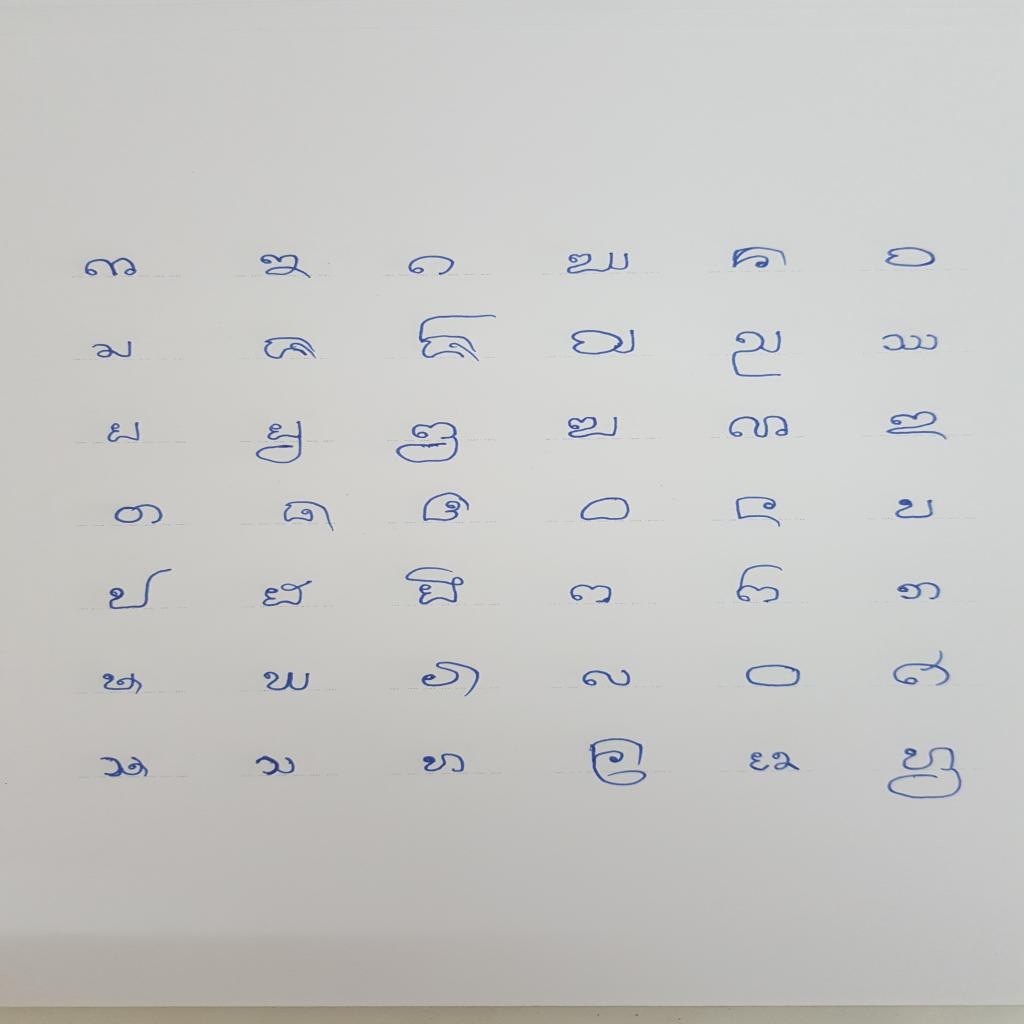LN001: (80, 254, 142, 280)
LN002: (254, 253, 318, 283)
LN003: (404, 253, 461, 281)
LN006: (881, 245, 942, 272)
LN007: (87, 339, 140, 362)
LN010: (565, 327, 641, 359)
LN011: (726, 328, 789, 381)
LN012: (875, 331, 944, 355)
LN013: (103, 419, 146, 446)
LN014: (254, 418, 309, 468)
LN016: (562, 413, 625, 442)
LN017: (724, 414, 795, 442)
LN018: (877, 407, 952, 445)
LN019: (111, 501, 169, 530)
LN020: (277, 498, 340, 536)
LN023: (729, 494, 790, 531)
LN024: (888, 496, 943, 524)
LN025: (105, 566, 177, 614)
LN026: (258, 578, 317, 612)
LN027: (401, 565, 471, 609)
LN029: (732, 563, 789, 608)
LN030: (892, 580, 947, 604)
LN031: (97, 669, 149, 699)
LN032: (257, 668, 317, 695)
LN033: (416, 659, 488, 701)
LN034: (579, 667, 640, 691)
LN035: (741, 661, 809, 691)
LN036: (888, 648, 957, 691)
LN037: (91, 753, 155, 783)
LN038: (250, 754, 303, 780)
LN039: (416, 752, 474, 778)
LN040: (584, 736, 653, 790)
LN041: (743, 749, 805, 775)
LN042: (882, 745, 969, 804)
